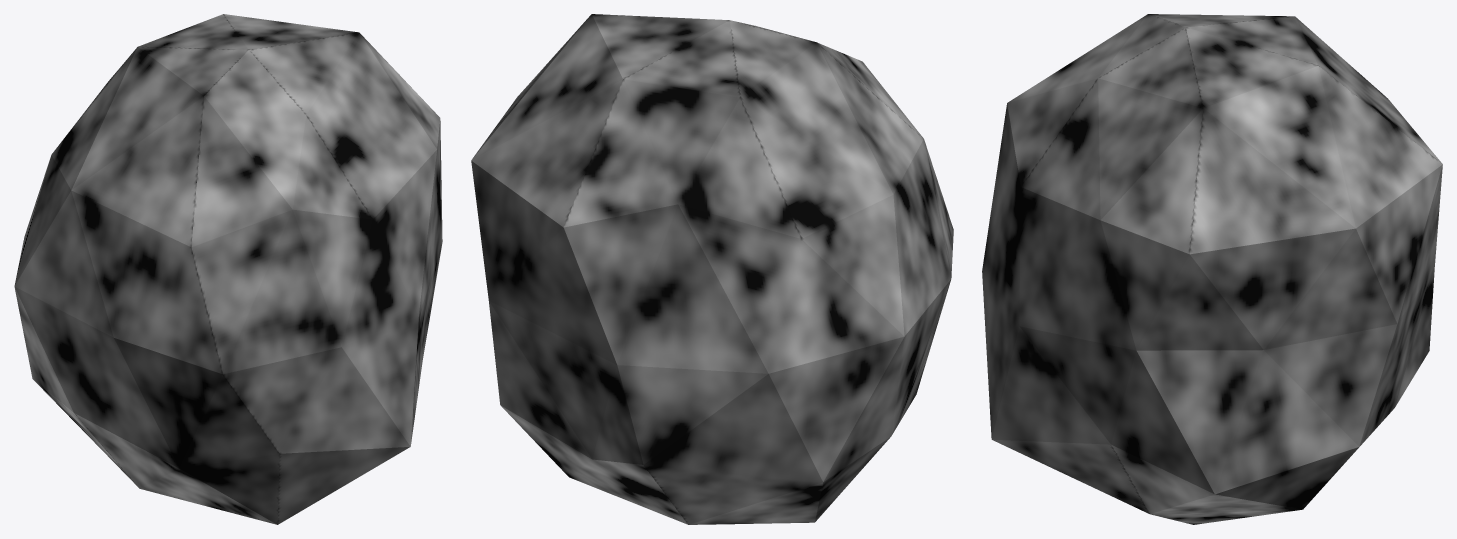
The model's file is bush_small.glb.
3 renders of one model, left to right at view 1: azimuth 30°, elevation 25°; view 2: azimuth 150°, elevation 25°; view 3: azimuth 270°, elevation 25°, orthographic. The views are drawn at different scales.
Parts seen in each view (by area): view 1: bush_small; view 2: bush_small; view 3: bush_small.
Part boxes in pixels (left/top/right/bottom): bush_small: left=14, top=14, right=442, bottom=524; bush_small: left=471, top=14, right=953, bottom=524; bush_small: left=982, top=14, right=1442, bottom=524.
Size of the model in its own units: 1.13 by 1.27 by 1.07.
Materials: 1 (1 with a texture image).
